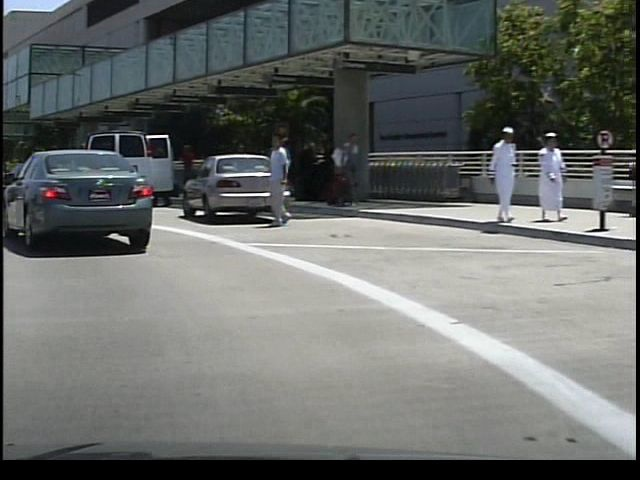person: (256, 129, 293, 231), (480, 124, 516, 226), (525, 129, 561, 221), (329, 129, 360, 210), (173, 140, 196, 205)
